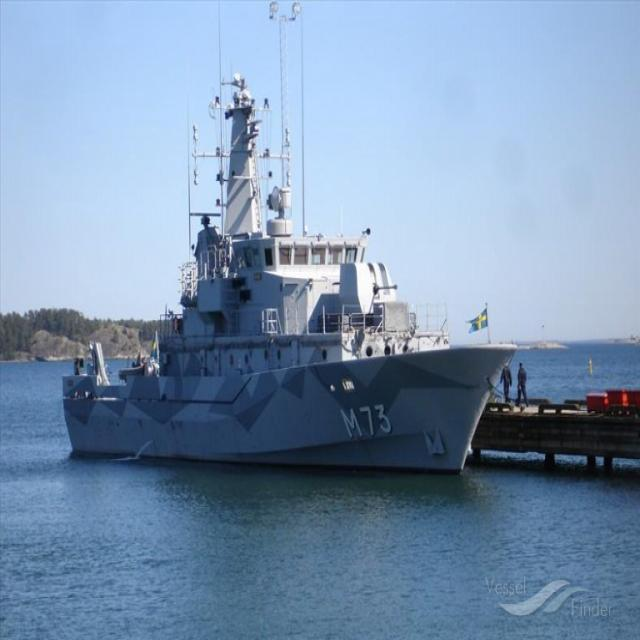Naval Ship: (62, 72, 514, 477)
